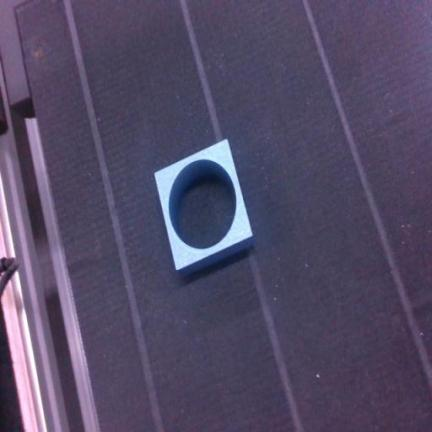square: (155, 140, 252, 272)
